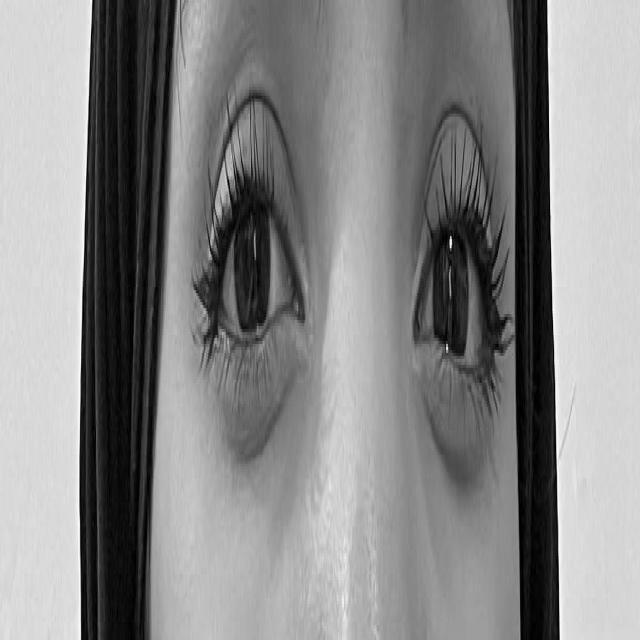real: (185, 14, 514, 567)
